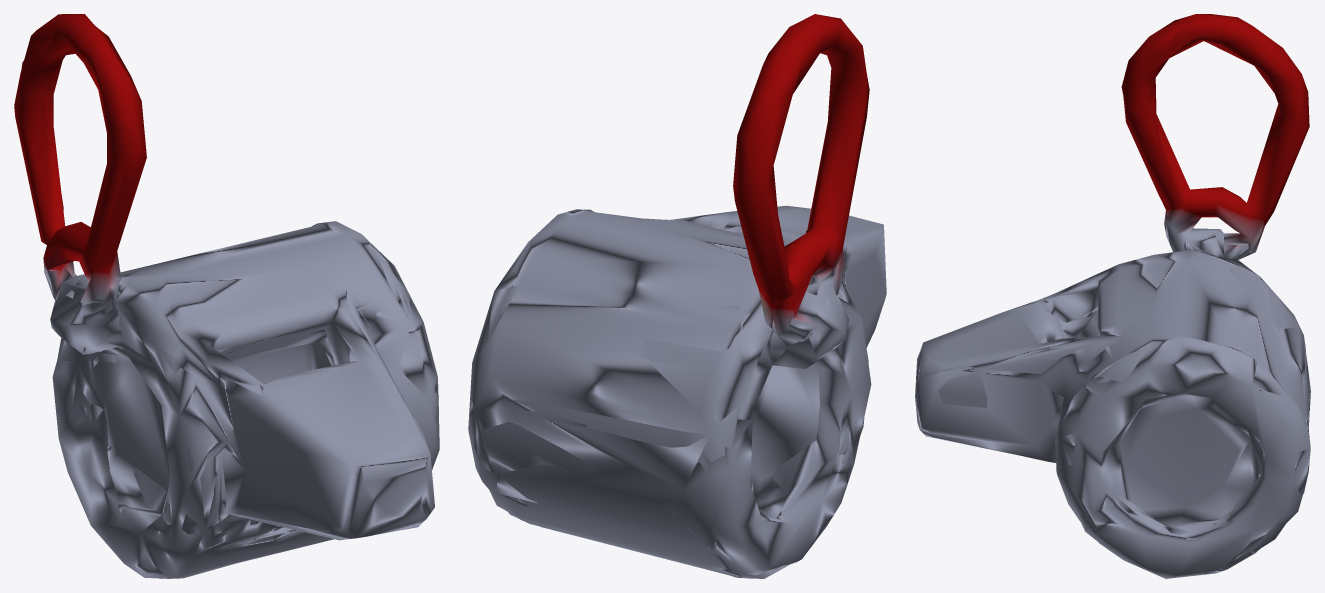
Rendered from gen3d-whistle-lod0.glb.
3 renders of one model, left to right at view 1: azimuth 30°, elevation 25°; view 2: azimuth 150°, elevation 25°; view 3: azimuth 270°, elevation 25°, orthographic. The views are drawn at different scales.
Parts seen in each view (by area): view 1: part_0; view 2: part_0; view 3: part_0.
Part boxes in pixels (box(x1,y1,x2,y2)): part_0: box(14, 14, 439, 578); part_0: box(468, 14, 886, 578); part_0: box(915, 14, 1310, 578).
Bounding box in the file's own units: 0.5893 × 0.9999 × 0.7789.
